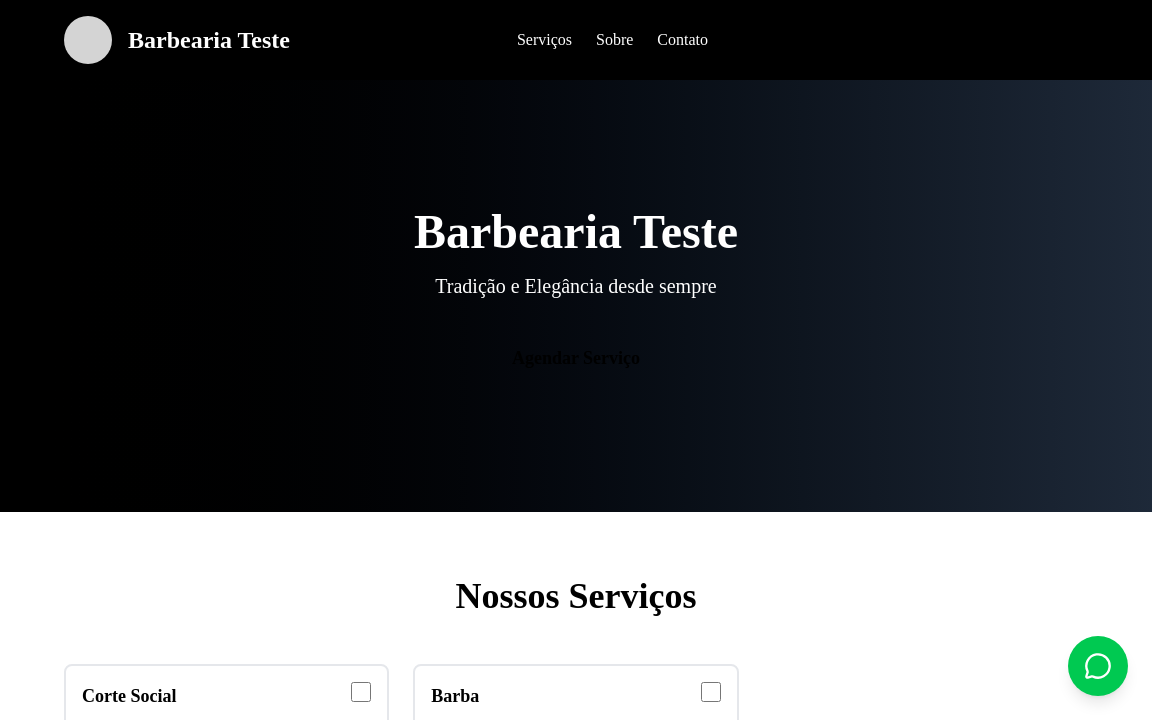
Test: Template1Classic › shows floating schedule button when services are selected
# Select a service by clicking the service card (not the checkbox)
Step 1. Click the text "Corte Social" → (129, 696), box [82,682,371,710]
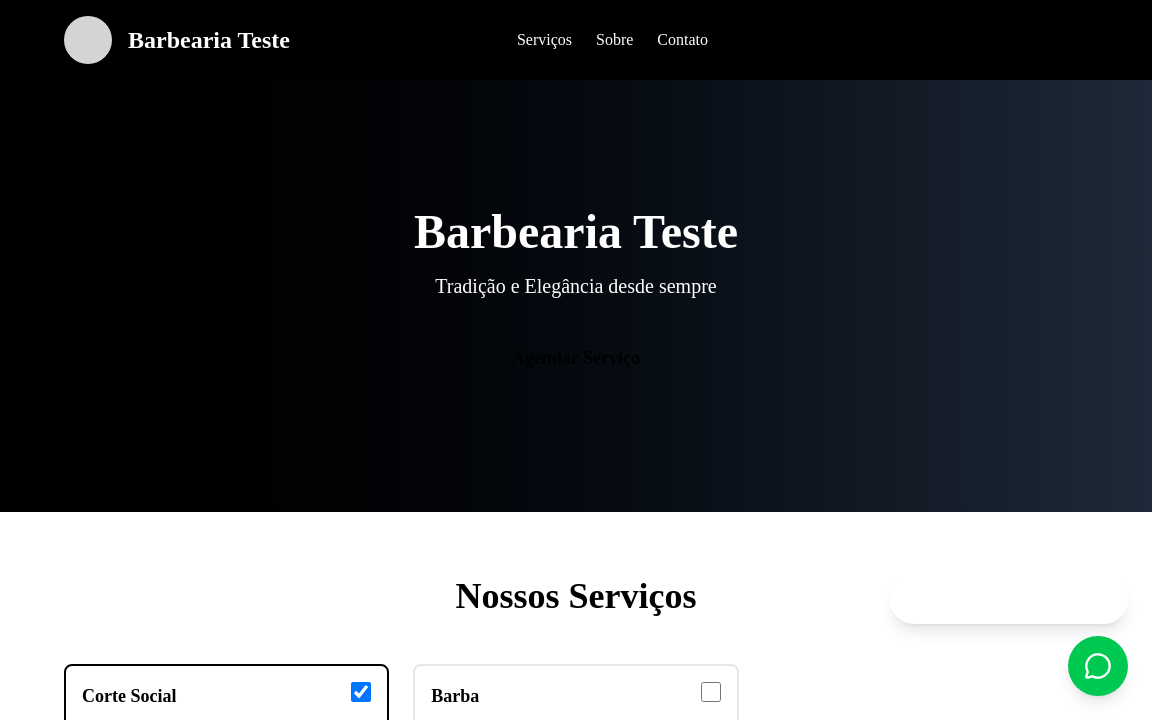
Expected: the button "Agendar 1 serviço • R$ 35.00" is shown, [890,576,1128,624]
